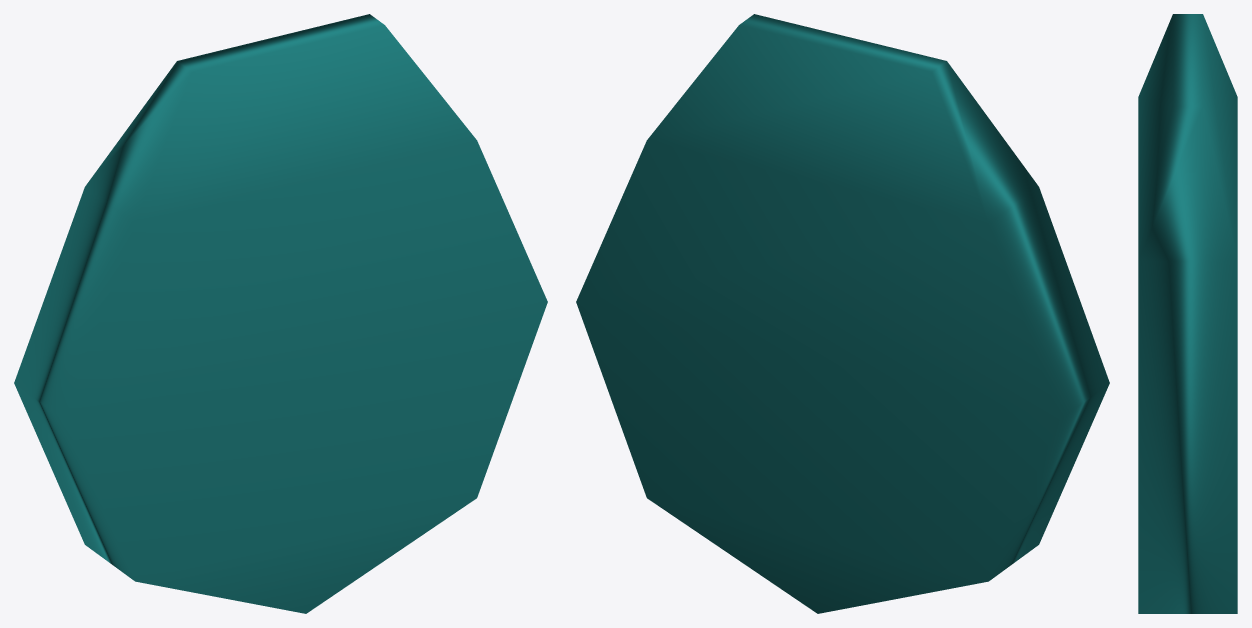
Rendered from medal_collider.fbx.
3 views of the same model, side by side, from view 1: azimuth 30°, elevation 25°; view 2: azimuth 150°, elevation 25°; view 3: azimuth 270°, elevation 25° (orthographic).
Parts seen in each view (by area): view 1: medal_collider; view 2: medal_collider; view 3: medal_collider.
Boxes of the visible parts, bbox=[...] form: medal_collider: bbox=[14, 14, 547, 613]; medal_collider: bbox=[576, 14, 1109, 613]; medal_collider: bbox=[1138, 14, 1237, 613].
Size of the model in its own units: 7.12 by 7.77 by 1.28.
